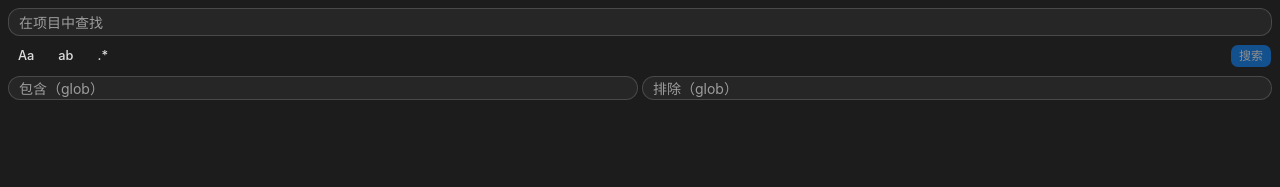
Test case: ProjectSearchPanel › says when the answer is partial, timed out, or skipped files
Type "needle" into the field labelled "在项目中查找" at (640, 22), box 8,8 -> 1272,36
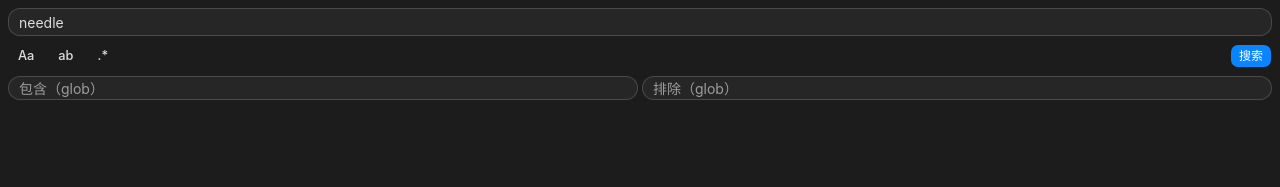
Click the button "搜索" at (1251, 56), box 1230,44 -> 1272,68
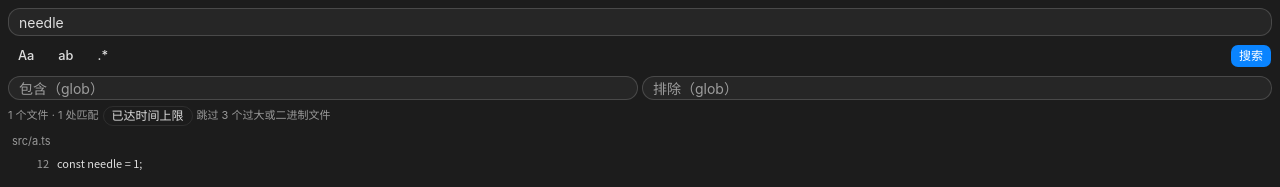
Now the text "已达时间上限" is shown, box 102,106 -> 192,126
Now the text "跳过 3 个过大或二进制文件" is shown, box 196,108 -> 330,124
